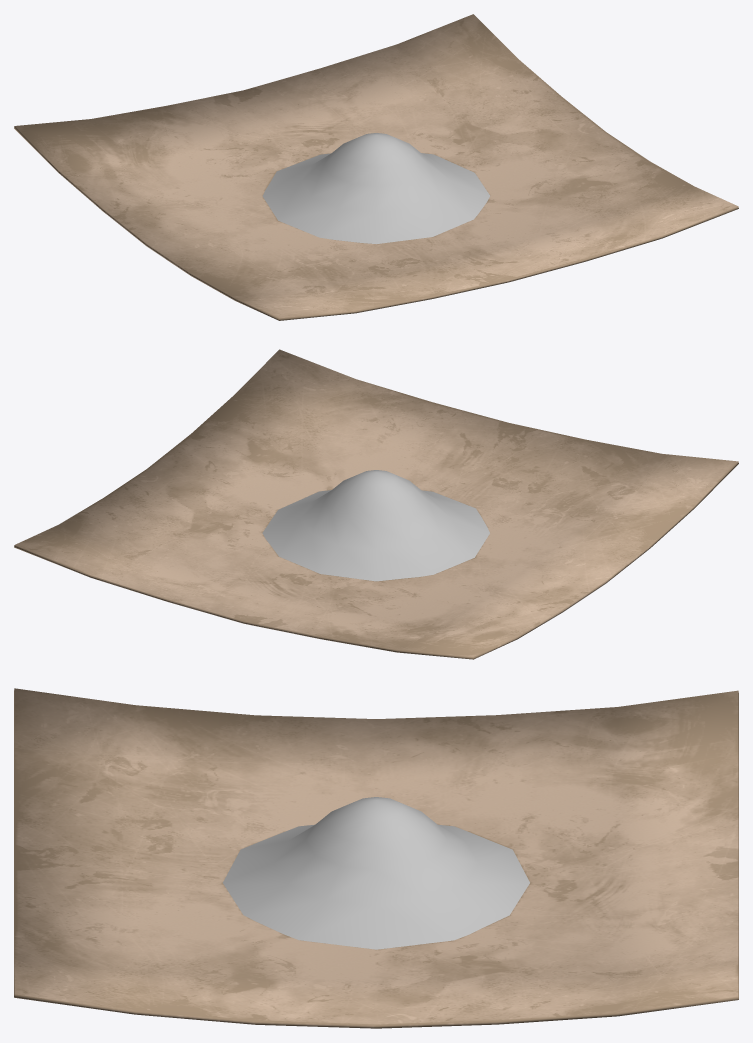
The model's file is powder.fbx.
3 views of the same model, one above another, from view 1: azimuth 30°, elevation 25°; view 2: azimuth 150°, elevation 25°; view 3: azimuth 270°, elevation 25° (orthographic). The views are drawn at different scales.
Visible parts, largest first — view 1: powder; view 2: powder; view 3: powder.
Boxes of the visible parts, left/top/right/bottom form: powder: left=14, top=14, right=738, bottom=320; powder: left=14, top=349, right=738, bottom=659; powder: left=14, top=688, right=738, bottom=1028.
Size of the model in its own units: 50.04 by 6.75 by 50.04.
